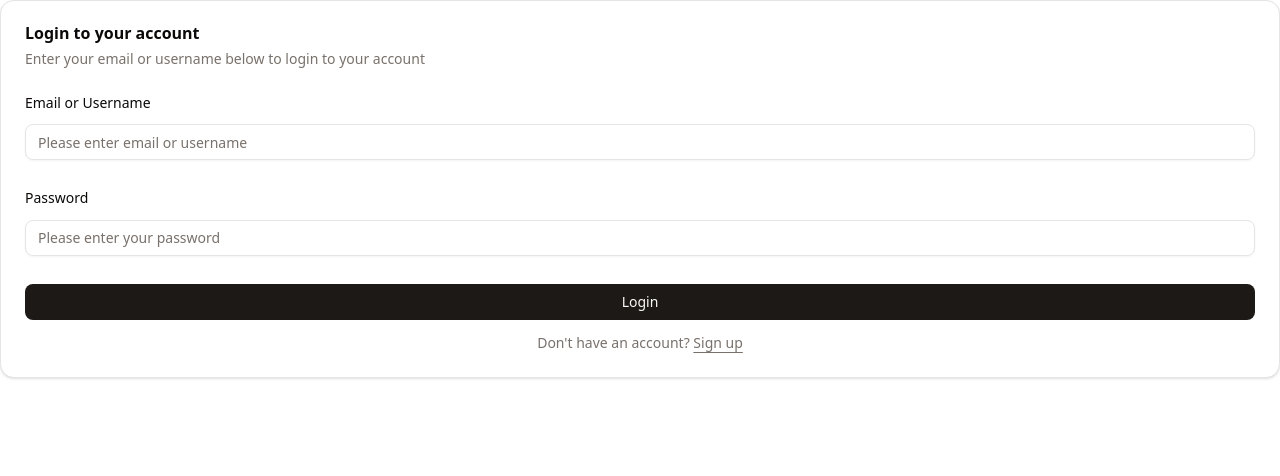
Test: LoginForm › should show error element when submit and response has errors
Type "test123" into the field labelled "Email or Username".
click(640, 142); type("test123")  # box [25,124,1255,160]
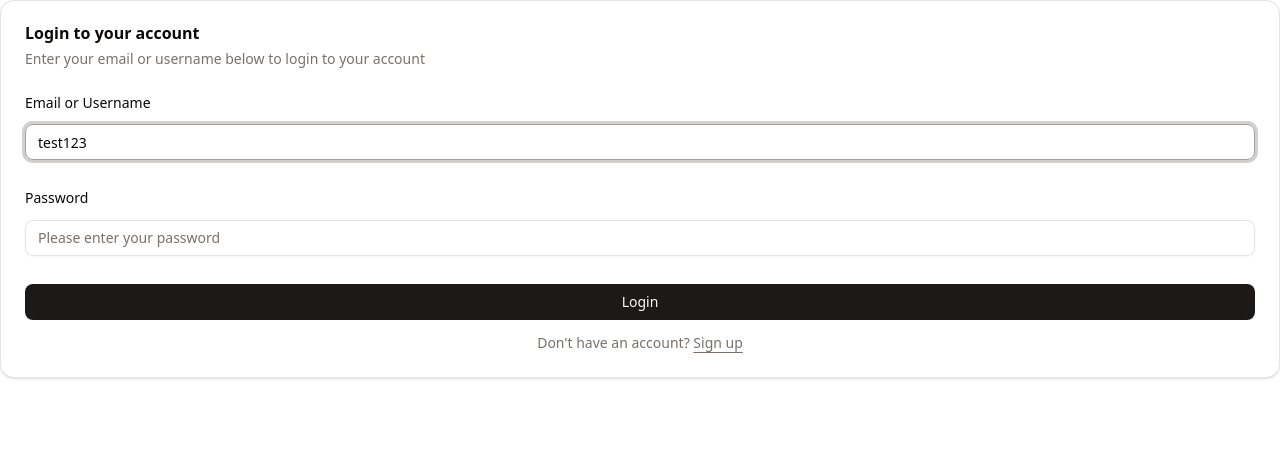
Type "test123" into the password field labelled "Password".
click(640, 238); type("test123")  # box [25,220,1255,256]
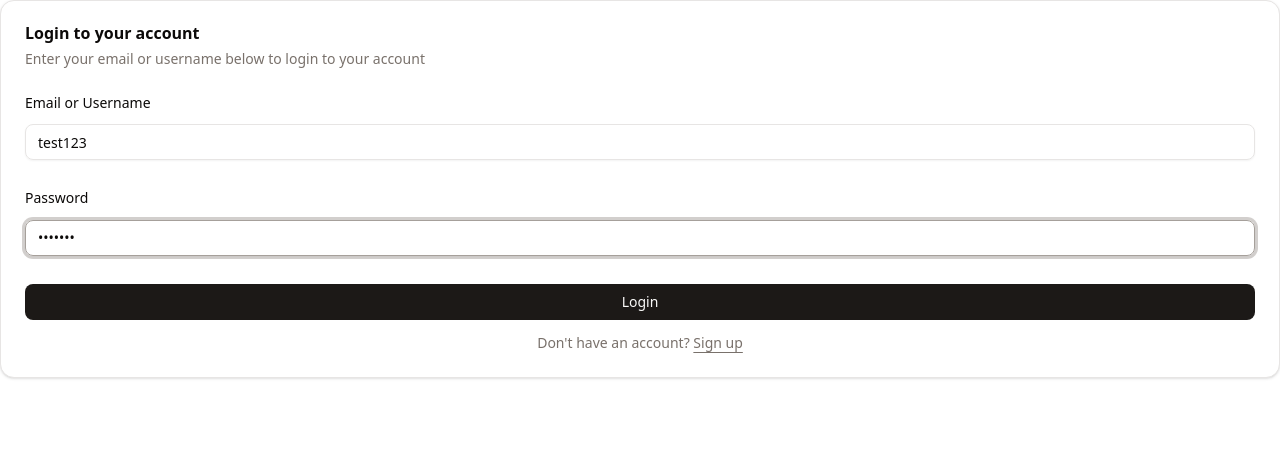
Click the button "Login".
click(640, 302)  # box [25,284,1255,320]
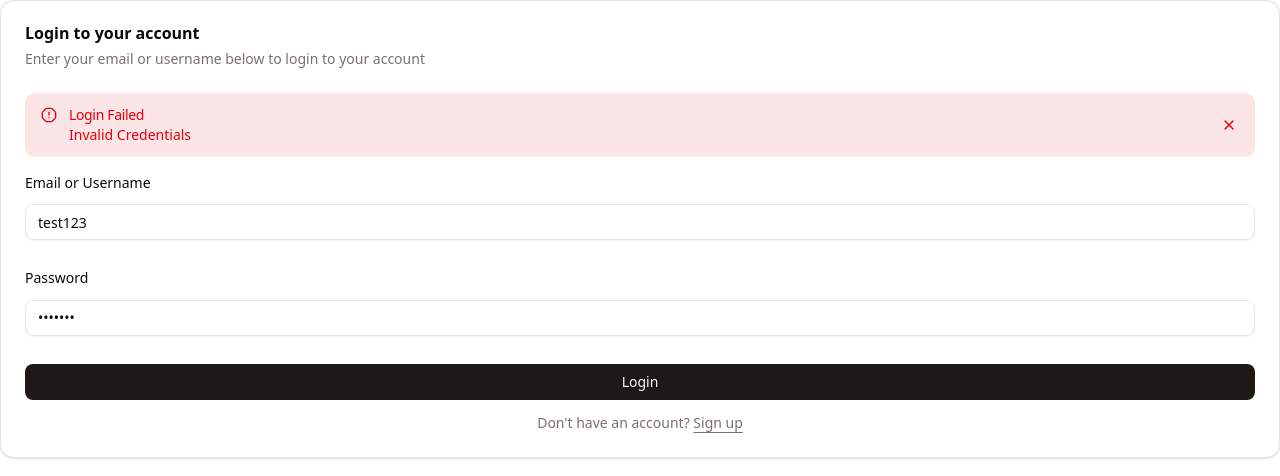
Result: the message "Login Failed Invalid Credentials" is shown at [25,93,1255,157]
Result: the text "Login Failed" is shown at [69,105,144,124]
Result: the text "Invalid Credentials" is shown at [69,125,191,145]
